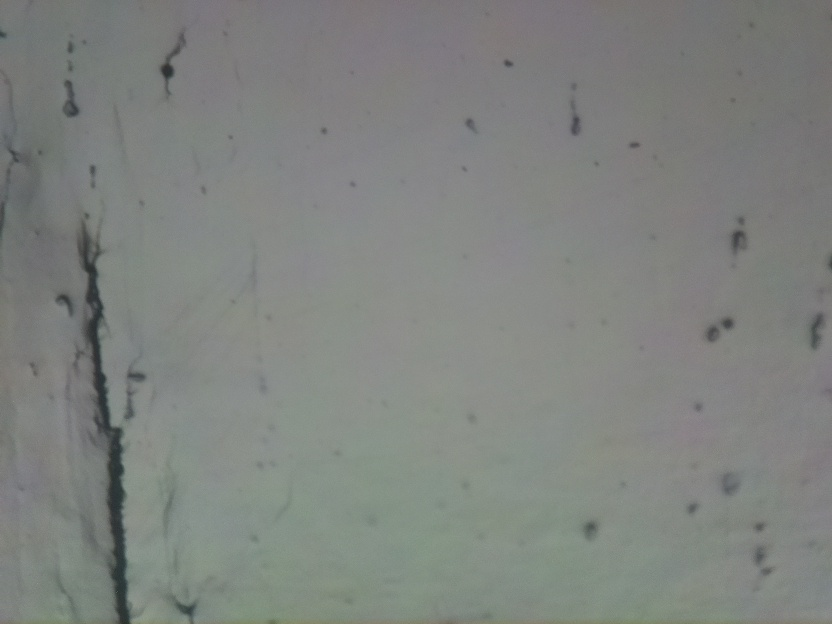crack: (70, 222, 131, 624)
